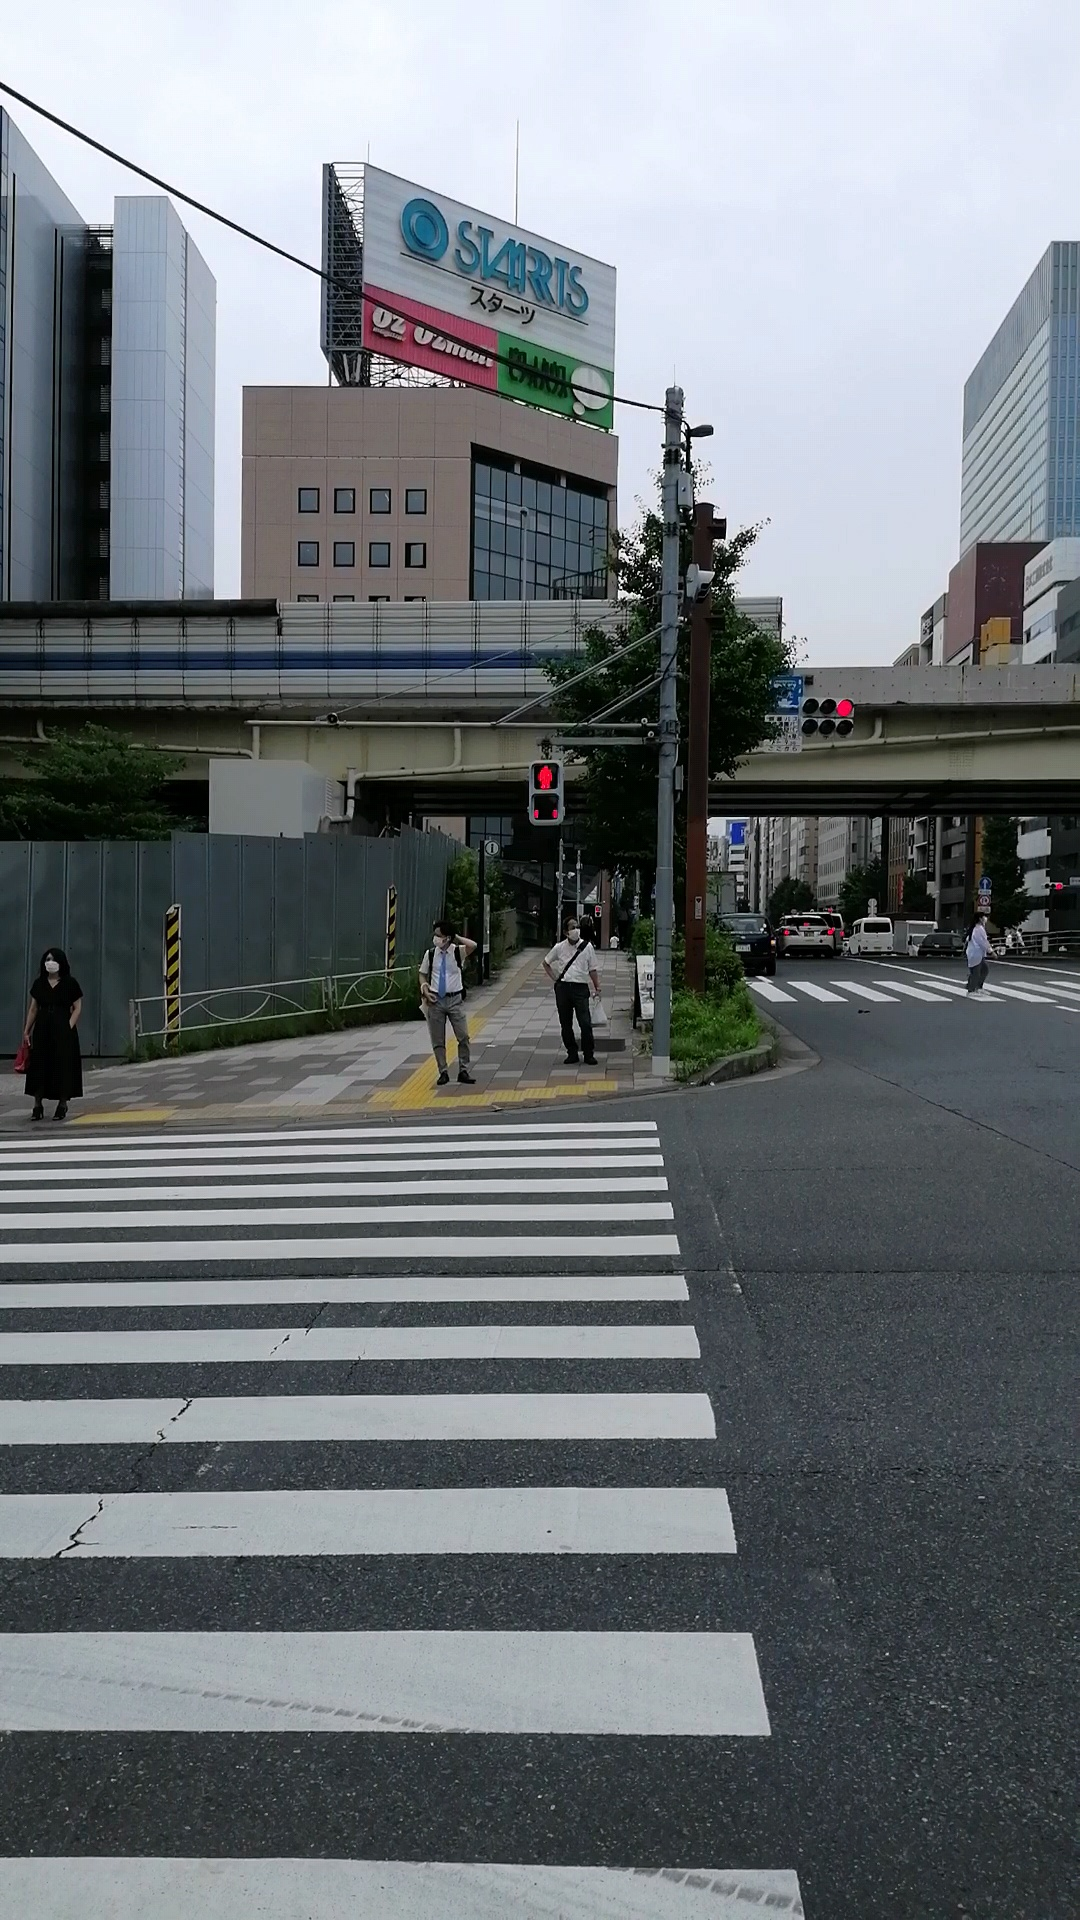red: (529, 760, 563, 825)
